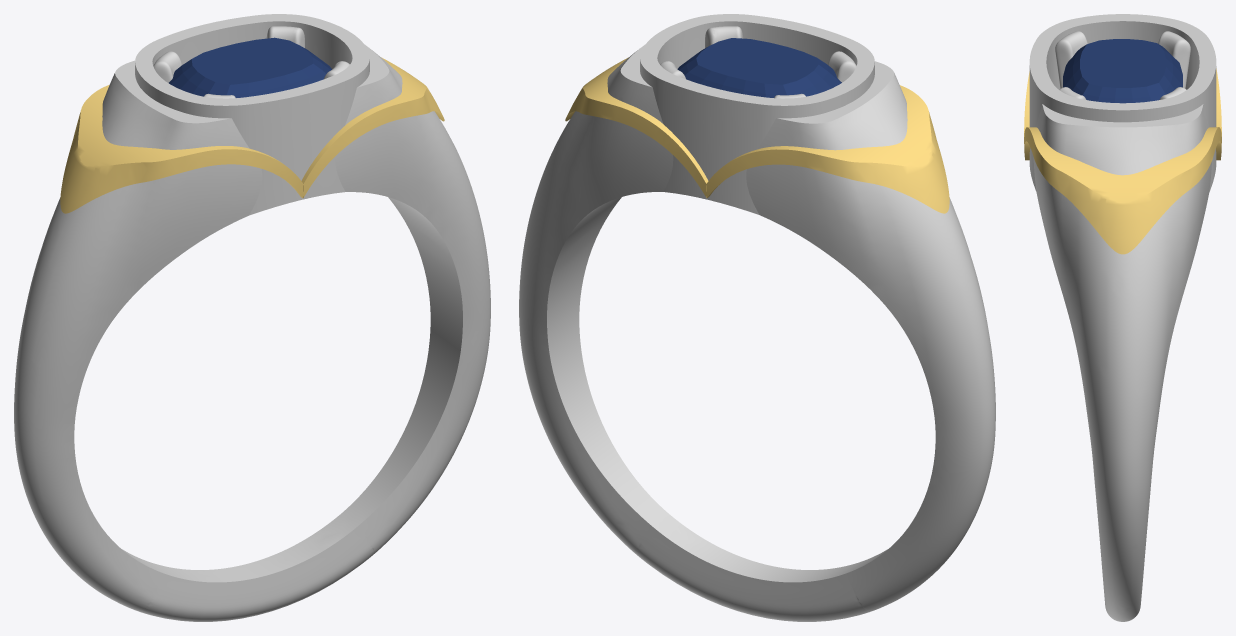
Rendered from JulianYGptTanz.glb.
3 renders of one model, left to right at view 1: azimuth 30°, elevation 25°; view 2: azimuth 150°, elevation 25°; view 3: azimuth 270°, elevation 25°, orthographic. The views are drawn at different scales.
Visible parts, largest first — view 1: Julian PT for 3d model, Julian RG for 3d model, Julian tanzanite for 3d model; view 2: Julian PT for 3d model, Julian RG for 3d model, Julian tanzanite for 3d model; view 3: Julian PT for 3d model, Julian RG for 3d model, Julian tanzanite for 3d model.
Part boxes in pixels (x1,y1,x2,y2): Julian PT for 3d model: (14,14,490,621); Julian RG for 3d model: (60,57,444,213); Julian tanzanite for 3d model: (169,37,331,97); Julian PT for 3d model: (519,14,995,621); Julian RG for 3d model: (565,57,949,213); Julian tanzanite for 3d model: (677,38,841,97); Julian PT for 3d model: (1029,14,1216,621); Julian RG for 3d model: (1024,68,1221,254); Julian tanzanite for 3d model: (1063,39,1182,103).
Bounding box in the file's own units: 25.04 × 28.16 × 9.43.
